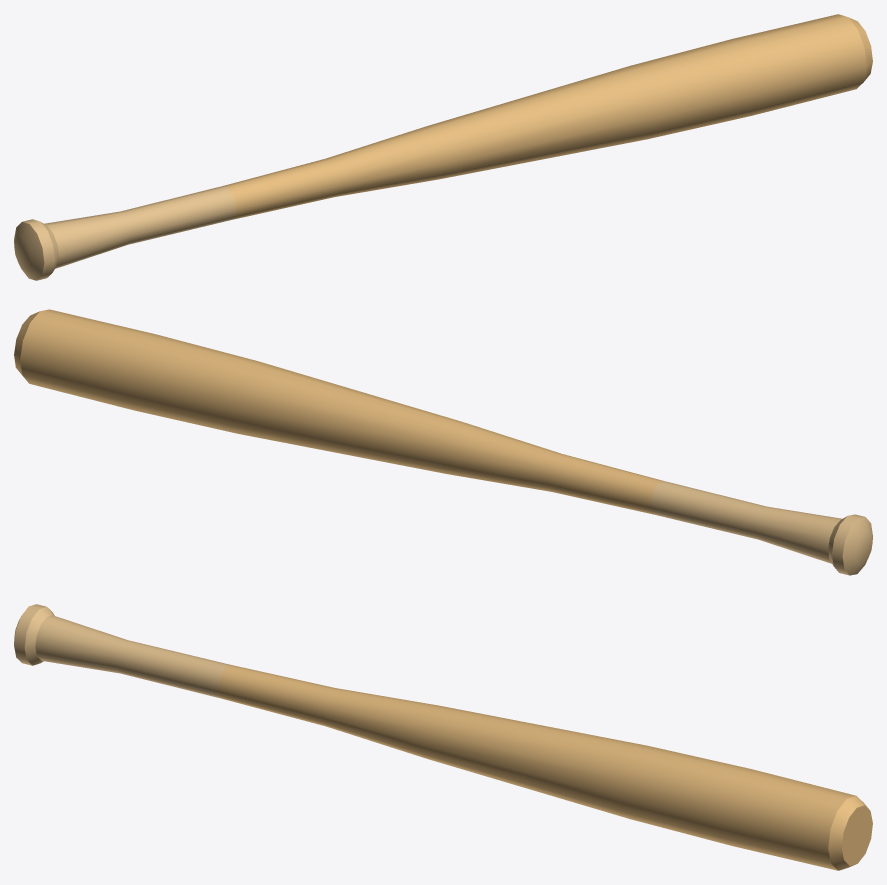
The model's file is Prop_BaseballBat.fbx.
3 views of the same model, one above another, from view 1: azimuth 30°, elevation 25°; view 2: azimuth 150°, elevation 25°; view 3: azimuth 330°, elevation 25° (orthographic).
Visible parts, largest first — view 1: Prop_BaseballBat; view 2: Prop_BaseballBat; view 3: Prop_BaseballBat.
Boxes of the visible parts, <box> form: Prop_BaseballBat: <box>14,14,872,280</box>; Prop_BaseballBat: <box>14,309,872,575</box>; Prop_BaseballBat: <box>14,604,872,870</box>.
Size of the model in its own units: 100 by 8.26 by 8.26.
